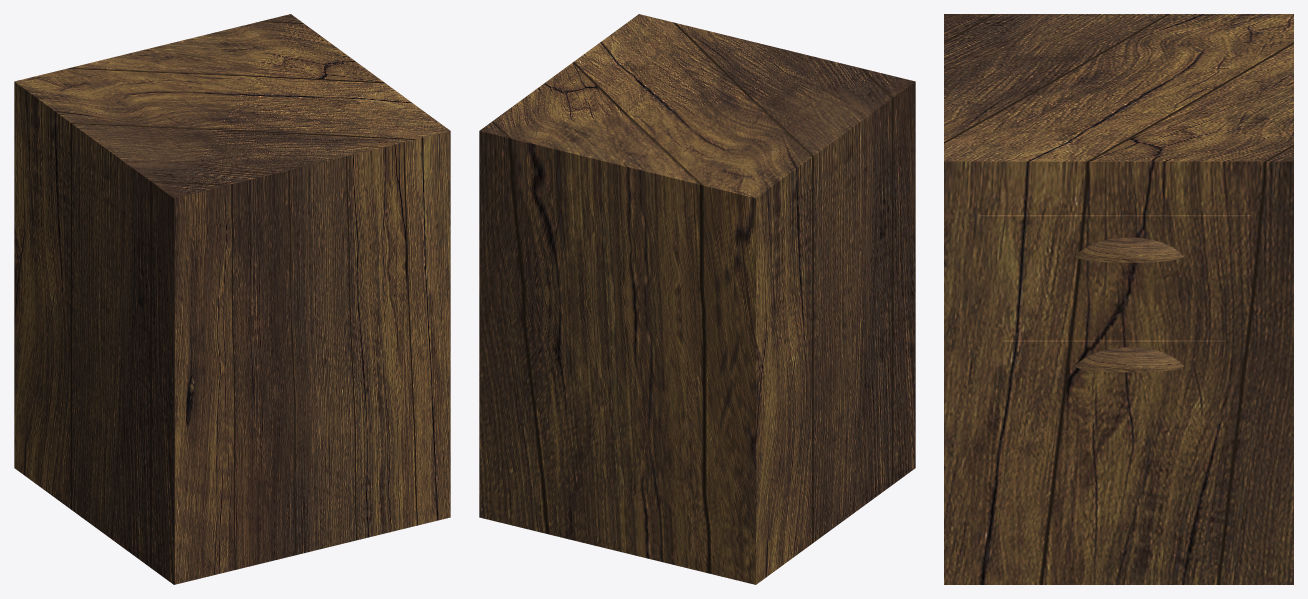
Rendered from Cageboard.fbx.
The picture shows the model from 3 angles, left to right: view 1: azimuth 30°, elevation 25°; view 2: azimuth 150°, elevation 25°; view 3: azimuth 270°, elevation 25°; orthographic projection. The views are drawn at different scales.
Parts seen in each view (by area): view 1: Cube; view 2: Cube; view 3: Cube.
Boxes of the visible parts, x1,y1,x2,y2 form: Cube: (14, 14, 450, 584); Cube: (479, 14, 915, 584); Cube: (944, 14, 1293, 584).
Size of the model in its own units: 148 by 189 by 141.
1 material, 1 textured.
